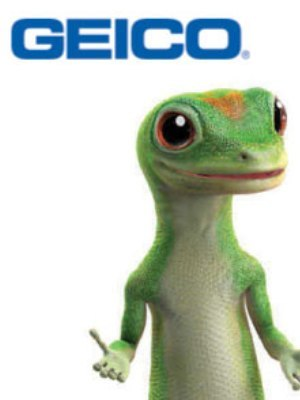geico: (11, 18, 255, 62)
